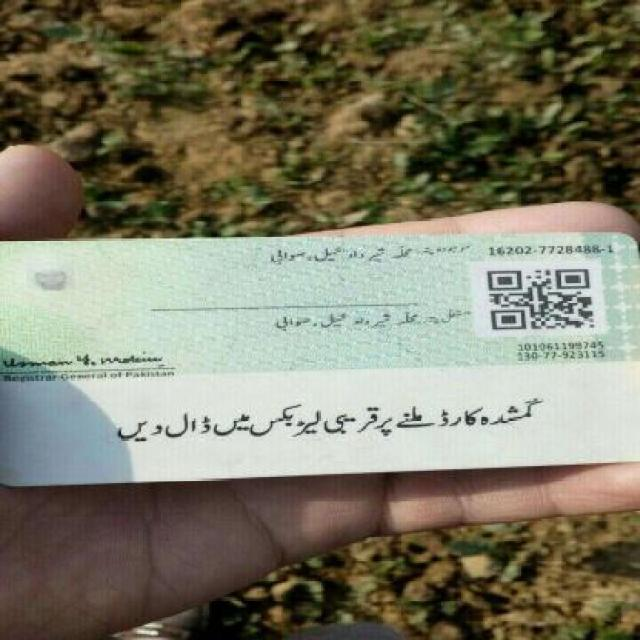Back: (3, 230, 628, 478)
